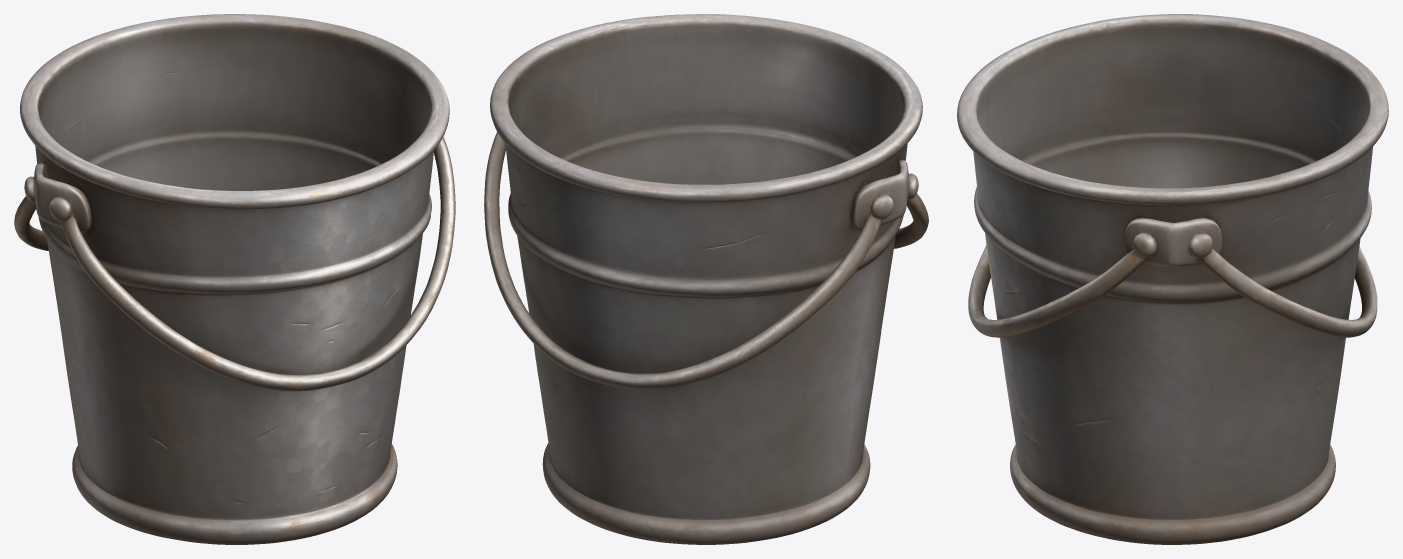
File: metal-bucket.glb
The picture shows the model from 3 angles, left to right: view 1: azimuth 30°, elevation 25°; view 2: azimuth 150°, elevation 25°; view 3: azimuth 270°, elevation 25°; orthographic projection.
Parts seen in each view (by area): view 1: tripo_node_3d2762c2-6d69-4ac5-bec3-c59a82f5e972; view 2: tripo_node_3d2762c2-6d69-4ac5-bec3-c59a82f5e972; view 3: tripo_node_3d2762c2-6d69-4ac5-bec3-c59a82f5e972.
Boxes of the visible parts, x1=… form: tripo_node_3d2762c2-6d69-4ac5-bec3-c59a82f5e972: x1=14, y1=14, x2=455, y2=544; tripo_node_3d2762c2-6d69-4ac5-bec3-c59a82f5e972: x1=484, y1=14, x2=928, y2=544; tripo_node_3d2762c2-6d69-4ac5-bec3-c59a82f5e972: x1=957, y1=14, x2=1388, y2=544.
Bounding box in the file's own units: 1 × 0.9164 × 0.9454.
1 material, 1 textured.
